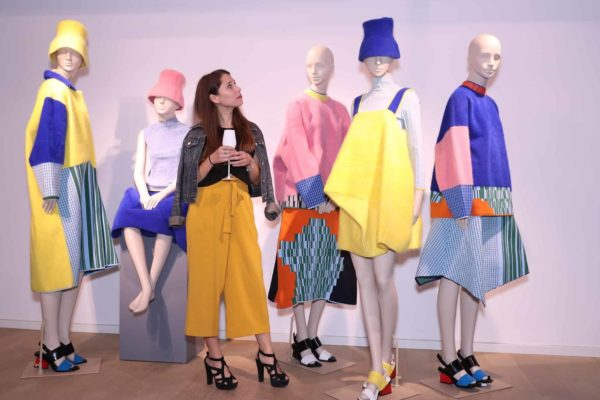person: (173, 64, 293, 392)
person-like: (410, 32, 535, 392), (318, 9, 428, 400), (22, 16, 123, 376), (266, 40, 362, 370), (107, 65, 191, 316)
